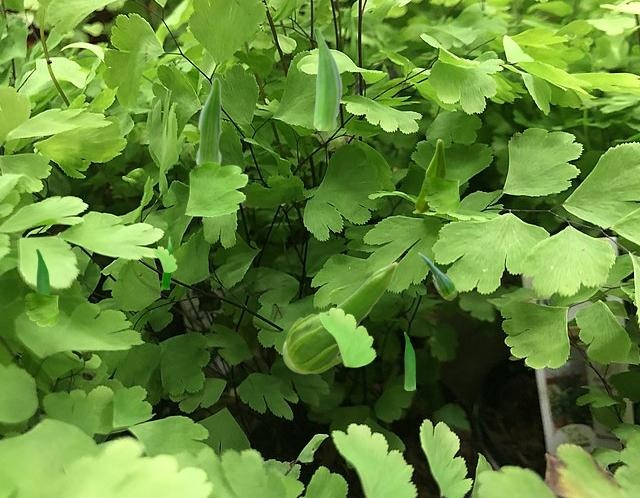okra: (282, 261, 397, 373), (313, 27, 341, 129), (195, 77, 221, 164), (415, 139, 444, 211), (418, 252, 456, 299), (161, 236, 172, 288), (404, 332, 414, 389), (36, 248, 48, 294)
